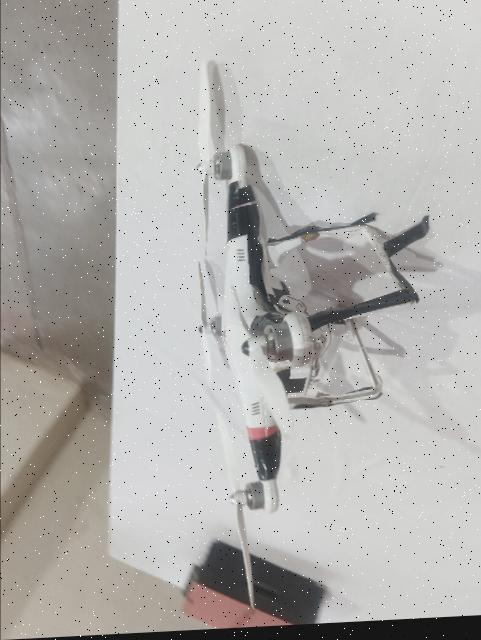drone: (147, 129, 427, 536)
